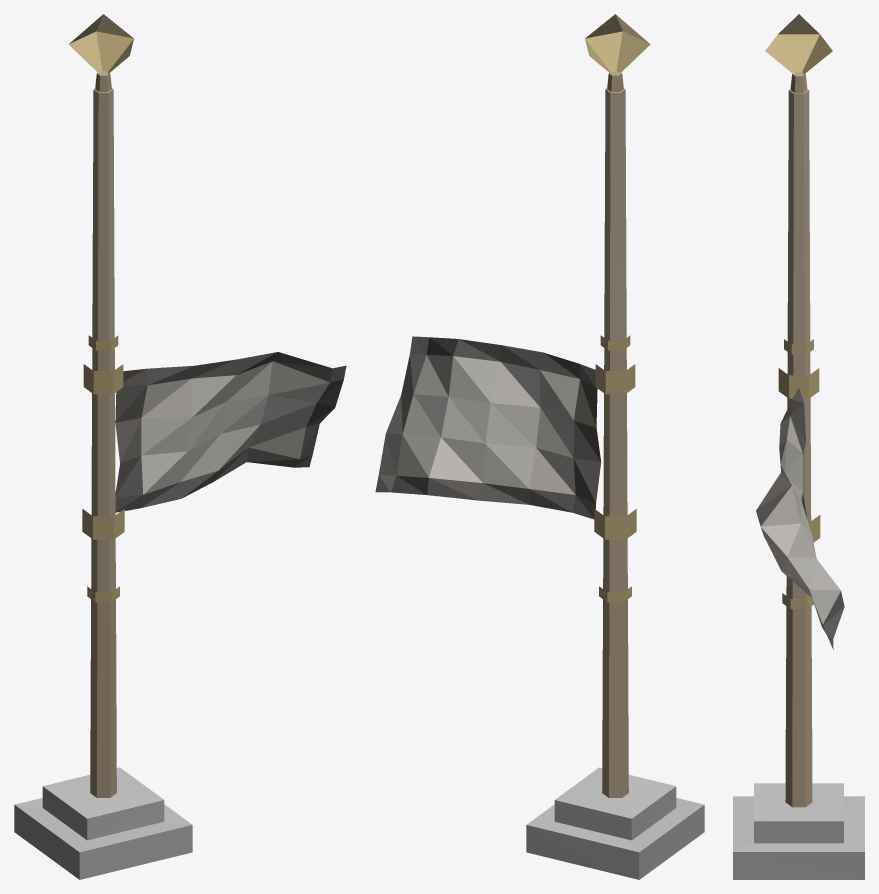
Rendered from flag.rect.suqi__pole.ground.gaogan__midmast.glb.
The picture shows the model from 3 angles, left to right: view 1: azimuth 30°, elevation 25°; view 2: azimuth 150°, elevation 25°; view 3: azimuth 270°, elevation 25°; orthographic projection.
Visible parts, largest first — view 1: flag.rect.suqi; view 2: flag.rect.suqi; view 3: flag.rect.suqi.
Boxes of the visible parts, <box> form: flag.rect.suqi: <box>14,14,346,879</box>; flag.rect.suqi: <box>375,14,704,879</box>; flag.rect.suqi: <box>733,14,864,879</box>.
Size of the model in its own units: 2.02 by 5.72 by 0.816.
